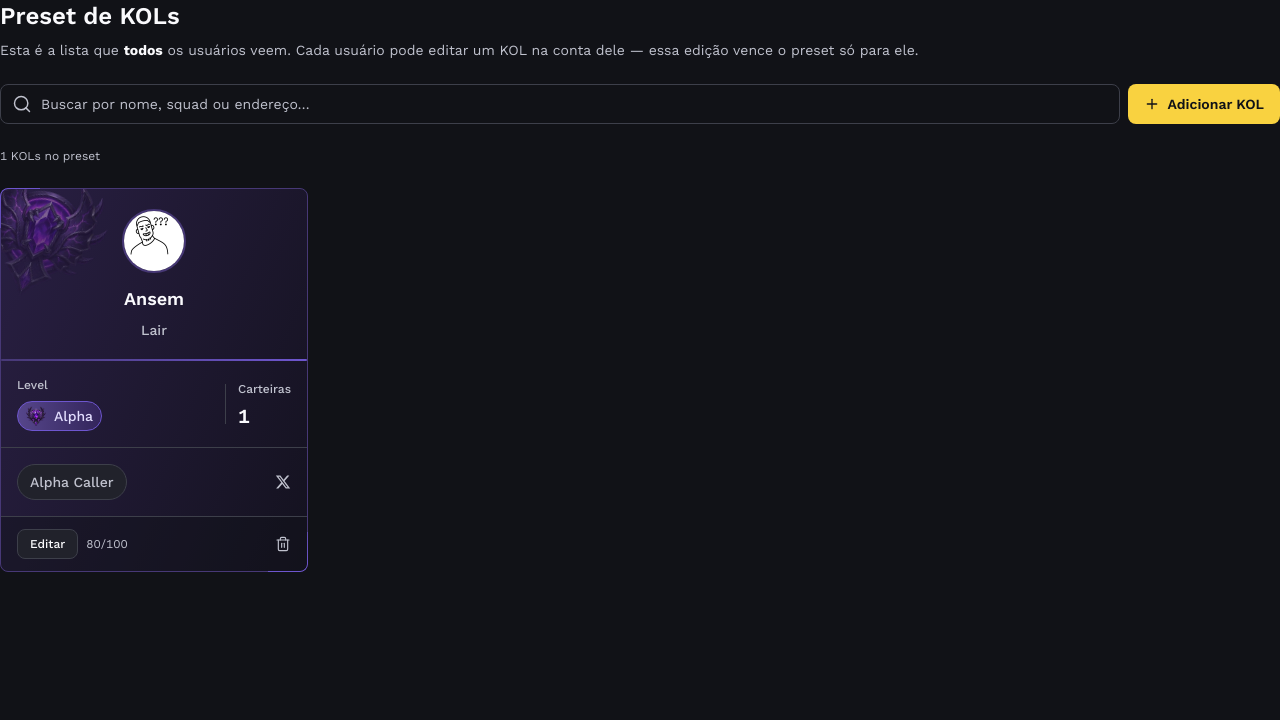
Test: KolsAdmin — salvar › não deixa salvar um KOL sem nome
Click the button named "Abrir Ansem" at (154, 380), box x1=1 y1=189 x2=307 y2=571
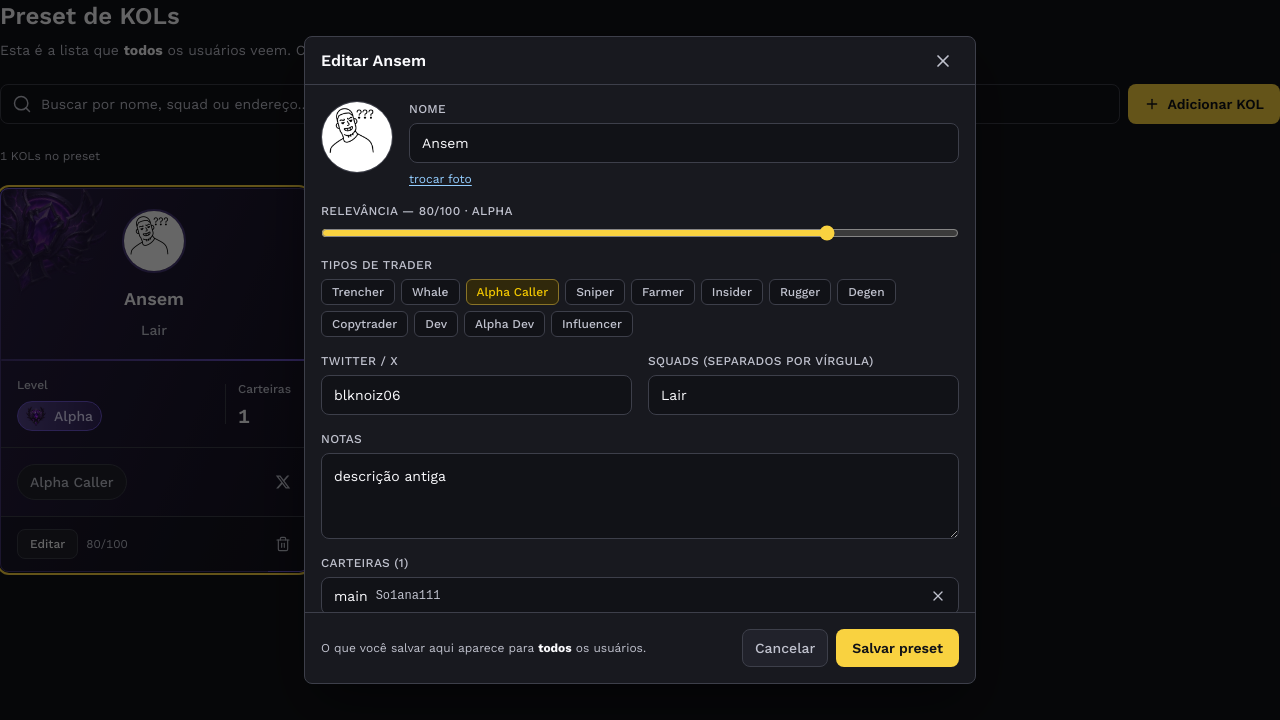
Clear the field labelled "Nome" at (684, 143), box x1=409 y1=123 x2=959 y2=163
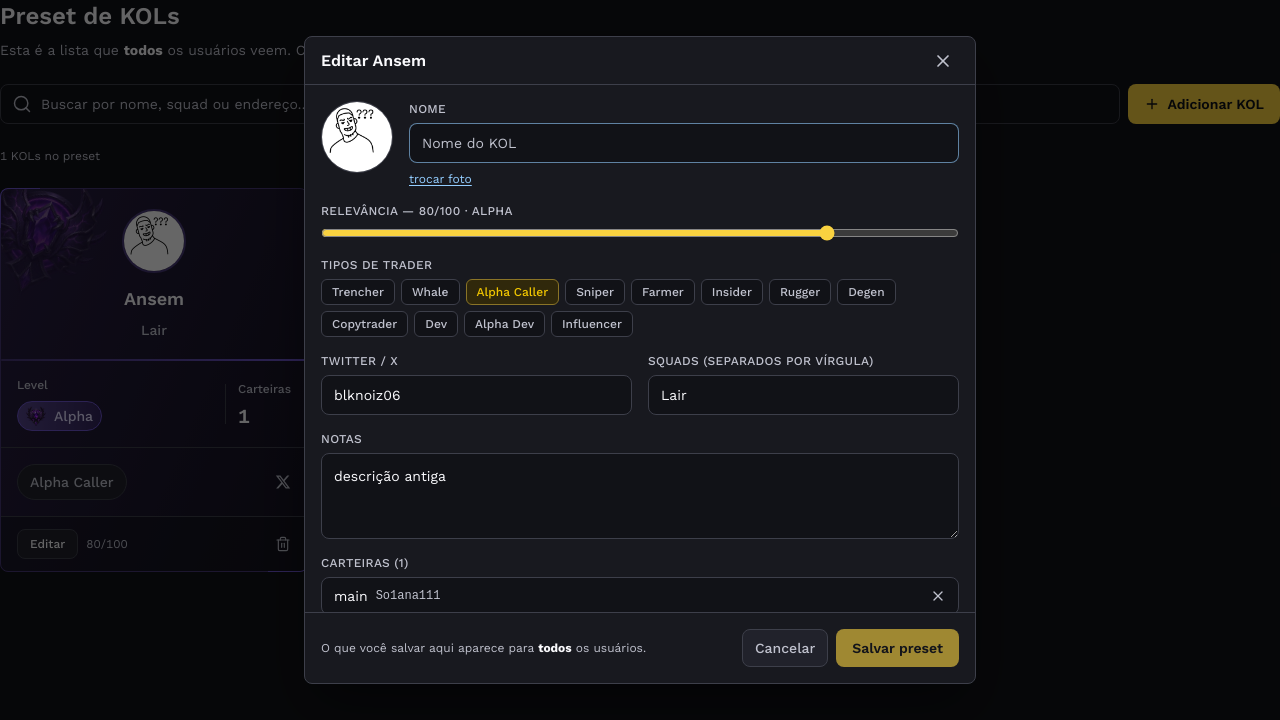
expect the button "Salvar preset" is disabled: met, box x1=836 y1=629 x2=959 y2=667
